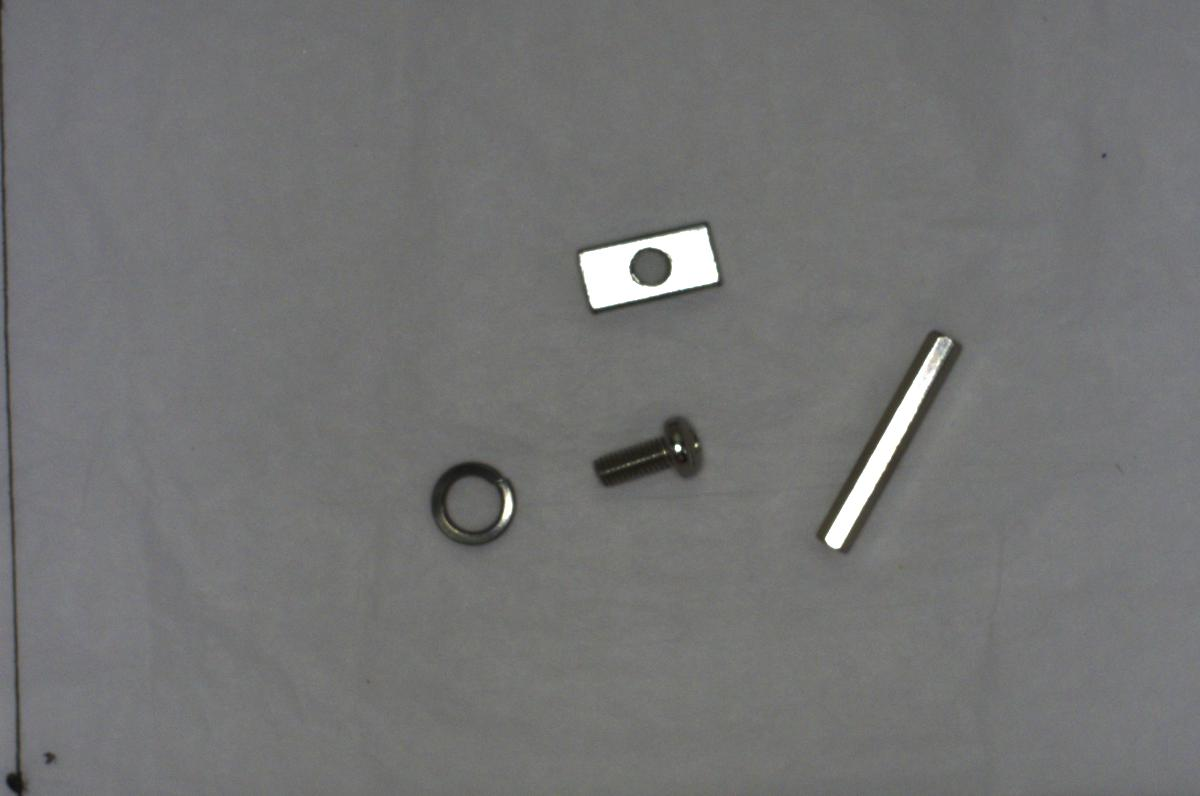Double hexagonal column: (818, 332, 961, 554)
Rectangular nut: (579, 222, 727, 315)
Round head screw: (591, 413, 710, 492)
Spring washer: (426, 461, 522, 546)
